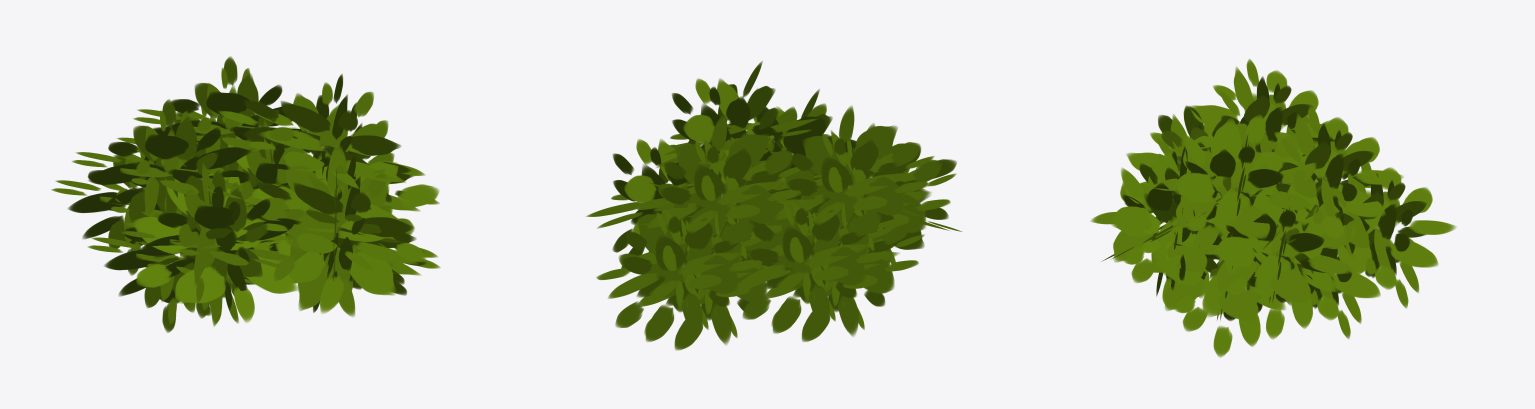
File: bush.glb
The picture shows the model from 3 angles, left to right: view 1: azimuth 30°, elevation 25°; view 2: azimuth 150°, elevation 25°; view 3: azimuth 270°, elevation 25°; orthographic projection. The views are drawn at different scales.
Parts seen in each view (by area): view 1: bush.001; view 2: bush.001; view 3: bush.001.
Part boxes in pixels (x1,y1,x2,y2): bush.001: [51, 56, 440, 332]; bush.001: [586, 61, 961, 350]; bush.001: [1090, 59, 1456, 357].
Size of the model in its own units: 7.14 by 4.62 by 7.75.
Materials: 1 (1 with a texture image).
